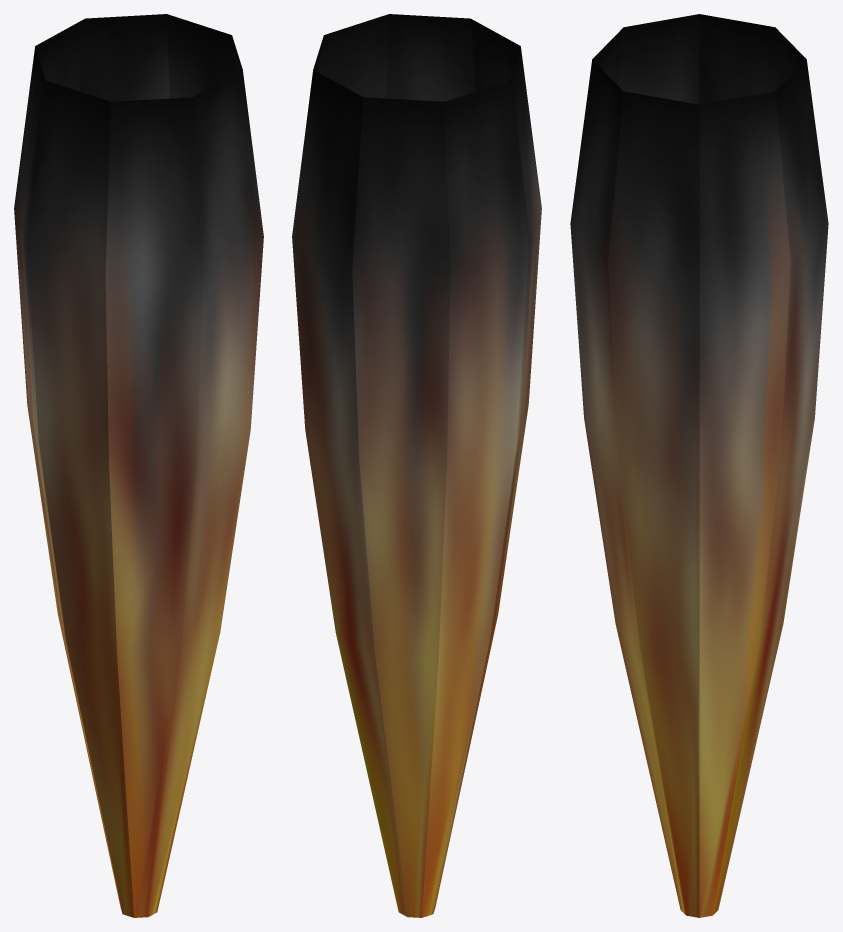
Rendered from eng_plumes_08.fbx.
3 views of the same model, side by side, from view 1: azimuth 30°, elevation 25°; view 2: azimuth 150°, elevation 25°; view 3: azimuth 270°, elevation 25° (orthographic).
Parts seen in each view (by area): view 1: eng_plume_08; view 2: eng_plume_08; view 3: eng_plume_08.
Boxes of the visible parts, bbox=[...] form: eng_plume_08: bbox=[14, 14, 263, 917]; eng_plume_08: bbox=[292, 14, 541, 917]; eng_plume_08: bbox=[570, 14, 828, 917].
Size of the model in its own units: 6.8 by 24.71 by 6.8.
